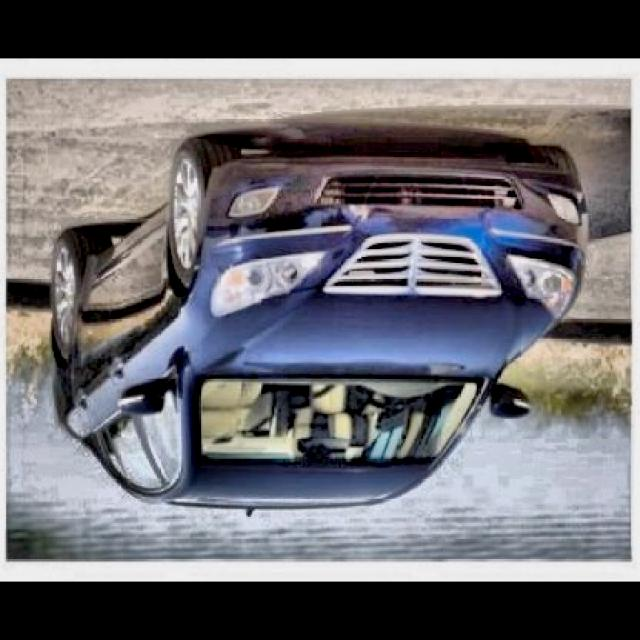blue: (55, 138, 587, 511)
